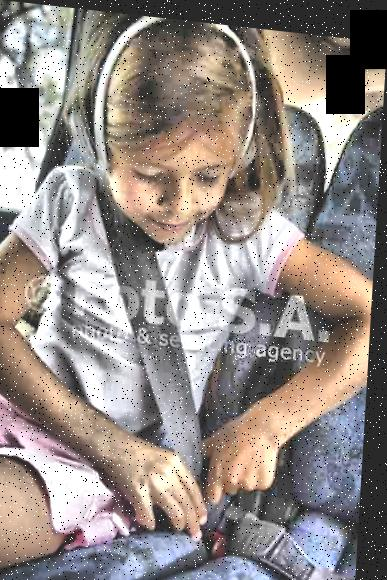seatbelt: (58, 132, 275, 553)
